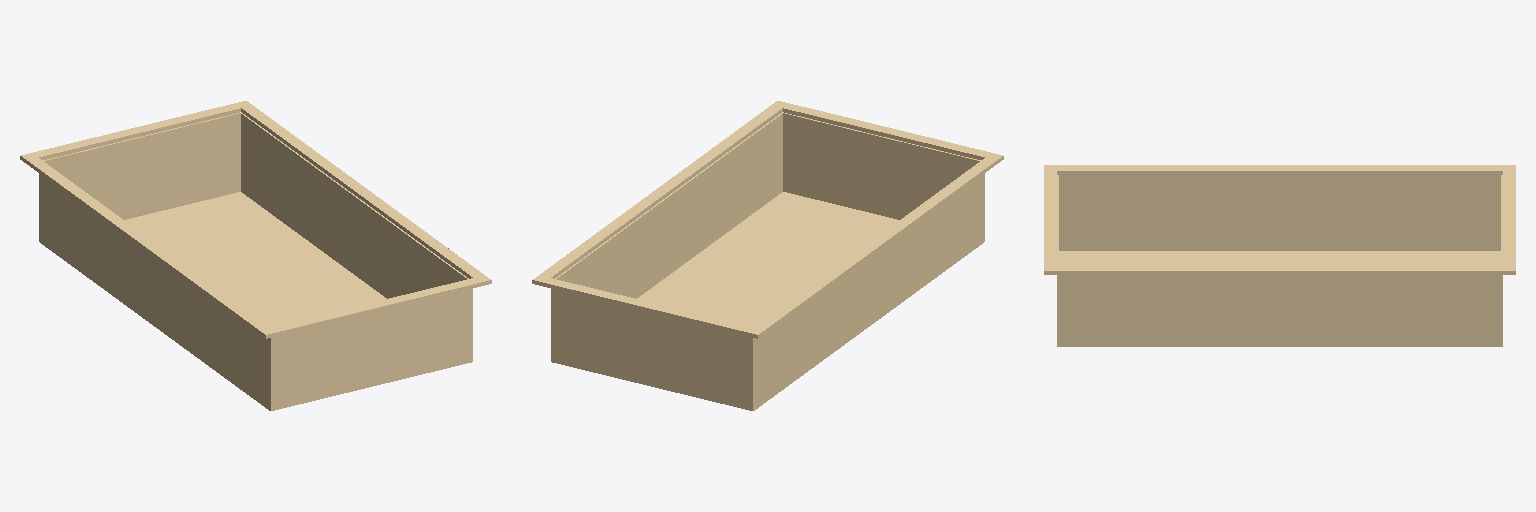
robot.urdf — chef_stainless_steel_box:
<?xml version="1.0"?>
<robot name="chef_stainless_steel_box">

  <!-- Material Definition: Stainless Steel -->
  <material name="stainless_steel">
    <color rgba="0.96 0.87 0.70 1.0"/> <!-- Beige color -->
  </material>

  <!-- Base Link: Represents the pan itself. Its origin is at the center of the pan's bottom external face. -->
  <link name="base_link">
    <inertial>
      <origin xyz="0 0 0.0525" rpy="0 0 0"/> <!-- Approximate CoM for overall shape -->
      <mass value="1.4"/> <!-- Increased mass for longer pan -->
      <!-- Inertia tensor for a solid box approximating the overall pan dimensions (Outer WxLxH ~ 0.295m x 0.555m x 0.105m) -->
      <!-- Ixx = (1/12)*m*(y^2+z^2) -->
      <!-- Iyy = (1/12)*m*(x^2+z^2) -->
      <!-- Izz = (1/12)*m*(x^2+y^2) -->
      <inertia ixx="0.03142" ixy="0.0" ixz="0.0"
               iyy="0.00817" iyz="0.0"
               izz="0.03775"/>
    </inertial>
  </link>

  <!--
  Original Dimensions Used for Calculations:
  pan_width_outer (X-axis, shorter side): 0.265m
  pan_length_outer (Y-axis, longer side): 0.525m (increased from 0.425m)
  pan_body_depth (Z-axis, height of the main part): 0.100m
  wall_thickness: 0.002m
  lip_overhang: 0.015m
  lip_height: 0.005m
  -->

  <!-- 1. Bottom Plate of the Pan -->
  <joint name="bottom_plate_joint" type="fixed">
    <parent link="base_link"/>
    <child link="bottom_plate_link"/>
    <!-- Origin: z = wall_thickness / 2 = 0.002 / 2 = 0.001 -->
    <origin xyz="0 0 0.001" rpy="0 0 0"/>
  </joint>
  <link name="bottom_plate_link">
    <visual>
      <geometry>
        <box size="0.265 0.525 0.002"/> <!-- pan_width_outer, pan_length_outer, wall_thickness -->
      </geometry>
      <material name="stainless_steel"/>
    </visual>
    <collision>
      <geometry>
        <box size="0.265 0.525 0.002"/>
      </geometry>
    </collision>
  </link>

  <!-- Walls of the Pan -->
  <!-- Effective wall height = pan_body_depth (0.1) - wall_thickness (0.002) = 0.098m -->
  <!-- Z-origin for walls = wall_thickness (0.002) + effective_wall_height/2 (0.049) = 0.051m -->

  <!-- 2. Front Wall (+Y direction) -->
  <joint name="front_wall_joint" type="fixed">
    <parent link="base_link"/>
    <child link="front_wall_link"/>
    <!-- Origin Y: pan_length_outer/2 - wall_thickness/2 = 0.525/2 - 0.002/2 = 0.2625 - 0.001 = 0.2615 -->
    <origin xyz="0 0.2615 0.051" rpy="0 0 0"/>
  </joint>
  <link name="front_wall_link">
    <visual>
      <geometry>
        <box size="0.265 0.002 0.098"/> <!-- pan_width_outer, wall_thickness, effective_wall_height -->
      </geometry>
      <material name="stainless_steel"/>
    </visual>
    <collision>
      <geometry>
        <box size="0.265 0.002 0.098"/>
      </geometry>
    </collision>
  </link>

  <!-- 3. Back Wall (-Y direction) -->
  <joint name="back_wall_joint" type="fixed">
    <parent link="base_link"/>
    <child link="back_wall_link"/>
    <!-- Origin Y: -(pan_length_outer/2 - wall_thickness/2) = -0.2615 -->
    <origin xyz="0 -0.2615 0.051" rpy="0 0 0"/>
  </joint>
  <link name="back_wall_link">
    <visual>
      <geometry>
        <box size="0.265 0.002 0.098"/>
      </geometry>
      <material name="stainless_steel"/>
    </visual>
    <collision>
      <geometry>
        <box size="0.265 0.002 0.098"/>
      </geometry>
    </collision>
  </link>

  <!-- 4. Right Wall (+X direction) -->
  <!-- Length of side walls: pan_length_outer (0.525) - 2*wall_thickness (0.004) = 0.521m -->
  <joint name="right_wall_joint" type="fixed">
    <parent link="base_link"/>
    <child link="right_wall_link"/>
    <!-- Origin X: pan_width_outer/2 - wall_thickness/2 = 0.265/2 - 0.002/2 = 0.1325 - 0.001 = 0.1315 -->
    <origin xyz="0.1315 0 0.051" rpy="0 0 0"/>
  </joint>
  <link name="right_wall_link">
    <visual>
      <geometry>
        <box size="0.002 0.521 0.098"/> <!-- wall_thickness, (pan_length_outer - 2*wall_thickness), effective_wall_height -->
      </geometry>
      <material name="stainless_steel"/>
    </visual>
    <collision>
      <geometry>
        <box size="0.002 0.521 0.098"/>
      </geometry>
    </collision>
  </link>

  <!-- 5. Left Wall (-X direction) -->
  <joint name="left_wall_joint" type="fixed">
    <parent link="base_link"/>
    <child link="left_wall_link"/>
    <!-- Origin X: -(pan_width_outer/2 - wall_thickness/2) = -0.1315 -->
    <origin xyz="-0.1315 0 0.051" rpy="0 0 0"/>
  </joint>
  <link name="left_wall_link">
    <visual>
      <geometry>
        <box size="0.002 0.521 0.098"/>
      </geometry>
      <material name="stainless_steel"/>
    </visual>
    <collision>
      <geometry>
        <box size="0.002 0.521 0.098"/>
      </geometry>
    </collision>
  </link>

  <!-- Lip of the Pan -->
  <!-- Lip Z-origin = pan_body_depth (0.1) + lip_height/2 (0.0025) = 0.1025m -->

  <!-- 6. Lip - Front Section (along +Y edge) -->
  <!-- Width of front/back lip piece: pan_width_outer (0.265) + 2*lip_overhang (0.030) = 0.295m -->
  <joint name="lip_front_joint" type="fixed">
    <parent link="base_link"/>
    <child link="lip_front_link"/>
    <!-- Origin Y: pan_length_outer/2 + lip_overhang/2 = 0.525/2 + 0.015/2 = 0.2625 + 0.0075 = 0.27 -->
    <origin xyz="0 0.27 0.1025" rpy="0 0 0"/>
  </joint>
  <link name="lip_front_link">
    <visual>
      <geometry>
        <box size="0.295 0.015 0.005"/> <!-- (pan_width_outer + 2*lip_overhang), lip_overhang_depth, lip_height -->
      </geometry>
      <material name="stainless_steel"/>
    </visual>
    <collision>
      <geometry>
        <box size="0.295 0.015 0.005"/>
      </geometry>
    </collision>
  </link>

  <!-- 7. Lip - Back Section (along -Y edge) -->
  <joint name="lip_back_joint" type="fixed">
    <parent link="base_link"/>
    <child link="lip_back_link"/>
    <!-- Origin Y: -(pan_length_outer/2 + lip_overhang/2) = -0.27 -->
    <origin xyz="0 -0.27 0.1025" rpy="0 0 0"/>
  </joint>
  <link name="lip_back_link">
    <visual>
      <geometry>
        <box size="0.295 0.015 0.005"/>
      </geometry>
      <material name="stainless_steel"/>
    </visual>
    <collision>
      <geometry>
        <box size="0.295 0.015 0.005"/>
      </geometry>
    </collision>
  </link>

  <!-- 8. Lip - Right Section (along +X edge) -->
  <!-- Length of side lip piece: pan_length_outer (0.525m) -->
  <joint name="lip_right_joint" type="fixed">
    <parent link="base_link"/>
    <child link="lip_right_link"/>
    <!-- Origin X: pan_width_outer/2 + lip_overhang/2 = 0.265/2 + 0.015/2 = 0.1325 + 0.0075 = 0.14 -->
    <origin xyz="0.14 0 0.1025" rpy="0 0 0"/>
  </joint>
  <link name="lip_right_link">
    <visual>
      <geometry>
        <box size="0.015 0.525 0.005"/> <!-- lip_overhang_width, pan_length_outer, lip_height -->
      </geometry>
      <material name="stainless_steel"/>
    </visual>
    <collision>
      <geometry>
        <box size="0.015 0.525 0.005"/>
      </geometry>
    </collision>
  </link>

  <!-- 9. Lip - Left Section (along -X edge) -->
  <joint name="lip_left_joint" type="fixed">
    <parent link="base_link"/>
    <child link="lip_left_link"/>
    <!-- Origin X: -(pan_width_outer/2 + lip_overhang/2) = -0.14 -->
    <origin xyz="-0.14 0 0.1025" rpy="0 0 0"/>
  </joint>
  <link name="lip_left_link">
    <visual>
      <geometry>
        <box size="0.015 0.525 0.005"/>
      </geometry>
      <material name="stainless_steel"/>
    </visual>
    <collision>
      <geometry>
        <box size="0.015 0.525 0.005"/>
      </geometry>
    </collision>
  </link>

  <!--
  NOTES on approximations due to "box only" constraint:
  1. Rounded Corners: All corners (vertical and horizontal) are sharp. Real pans have rounded corners for cleaning and safety.
  2. Tapered Sides: The pan is modeled with straight vertical sides. Real pans are slightly tapered (wider at the top) for stacking.
  3. Rolled Lip Edge: The lip is modeled as a simple flat box. Real pans often have a rolled or flattened-U shape edge for strength and handling.
  4. Wall Thickness: The `wall_thickness` and `lip_height` are slightly exaggerated to make them more visually distinct when rendered as boxes. Real pans are made of thinner sheet metal.
  5. Construction: The pan is constructed from 9 separate box links (1 bottom, 4 walls, 4 lip segments) attached to a central base_link.
  6. Inertia: Inertial properties are approximated for a solid bounding box of the overall pan.
  -->

</robot>

--- What the picture shows (computed from the rendered views, not written in the file) ---
Views: 3 orthographic renders of the robot side by side, from view 1: azimuth 30°, elevation 25°; view 2: azimuth 150°, elevation 25°; view 3: azimuth 270°, elevation 25°.
Robot: chef_stainless_steel_box — 10 links, 9 joints (9 fixed); root link base_link; default pose: every joint at zero.
Links seen in each view (by area): view 1: bottom_plate_link, left_wall_link, right_wall_link, back_wall_link, front_wall_link, lip_left_link, lip_right_link, lip_back_link, lip_front_link; view 2: bottom_plate_link, left_wall_link, right_wall_link, front_wall_link, back_wall_link, lip_left_link, lip_right_link, lip_front_link, lip_back_link; view 3: left_wall_link, right_wall_link, bottom_plate_link, lip_left_link, lip_right_link, lip_front_link, lip_back_link.
Link boxes in pixels (x1,y1,x2,y2): bottom_plate_link: [39, 192, 472, 410]; left_wall_link: [39, 173, 269, 408]; right_wall_link: [241, 113, 468, 298]; back_wall_link: [270, 289, 472, 409]; front_wall_link: [43, 112, 241, 219]; lip_left_link: [27, 158, 269, 333]; lip_right_link: [241, 105, 483, 278]; lip_back_link: [259, 275, 491, 338]; lip_front_link: [20, 101, 251, 163]; bottom_plate_link: [551, 192, 984, 410]; left_wall_link: [754, 173, 984, 408]; right_wall_link: [555, 113, 782, 298]; front_wall_link: [551, 289, 753, 409]; back_wall_link: [782, 112, 980, 219]; lip_left_link: [754, 158, 996, 333]; lip_right_link: [540, 105, 782, 278]; lip_front_link: [532, 275, 764, 338]; lip_back_link: [772, 101, 1003, 163]; left_wall_link: [1059, 175, 1500, 250]; right_wall_link: [1059, 275, 1500, 344]; bottom_plate_link: [1057, 251, 1502, 346]; lip_left_link: [1057, 165, 1502, 174]; lip_right_link: [1057, 266, 1502, 274]; lip_front_link: [1503, 165, 1515, 274]; lip_back_link: [1044, 165, 1056, 274].
Bounding box of the posed robot: 0.295 × 0.555 × 0.105 m (x, y, z).
Geometry: primitives only (box / cylinder / sphere), no mesh files.
